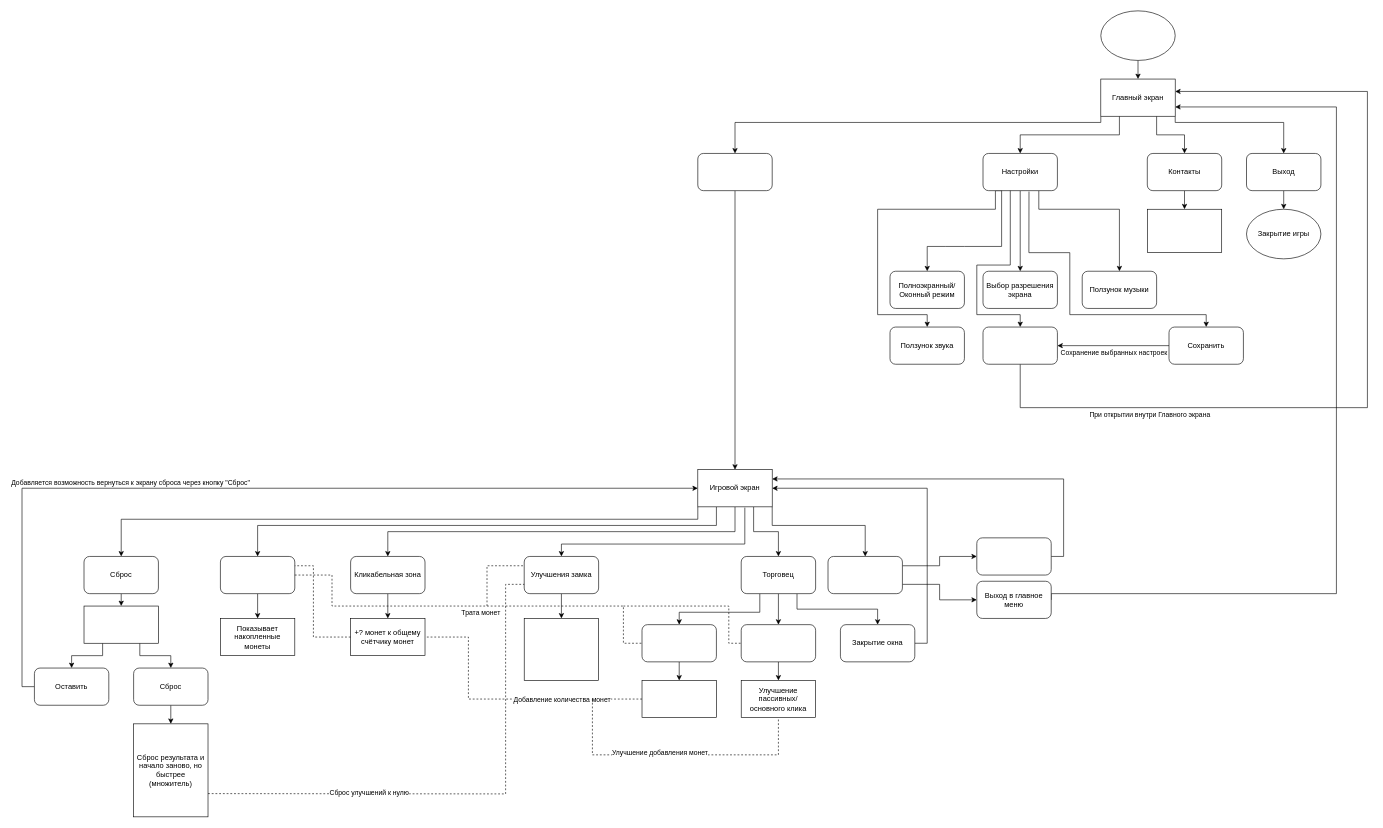
Image size: 1383x828. Some labels were removed from this diagram. The shapes that lost their labels are listed below. From the top down, each one's box as (x1, y1, x2, y2) in pixels, then its label:
(1100, 10, 1175, 60): Запуск
(697, 153, 772, 191): Играть
(1147, 209, 1222, 253): Окно с перечислением: Почта, Телеграмм канал
(982, 326, 1057, 364): Закрыть
(220, 556, 295, 594): Счётчик монет
(827, 556, 902, 594): Меню
(976, 537, 1051, 575): Остаться в игре
(83, 605, 158, 643): Выбор между сбросом результата или его откладыванием
(641, 624, 716, 662): Покупка
(741, 624, 816, 662): Улучшение
(524, 618, 599, 680): Три точки над лагерем с кнопками улучшить. Каждая позволяет улучшить часть замка
(641, 680, 716, 718): Покупка пассивных кликов
